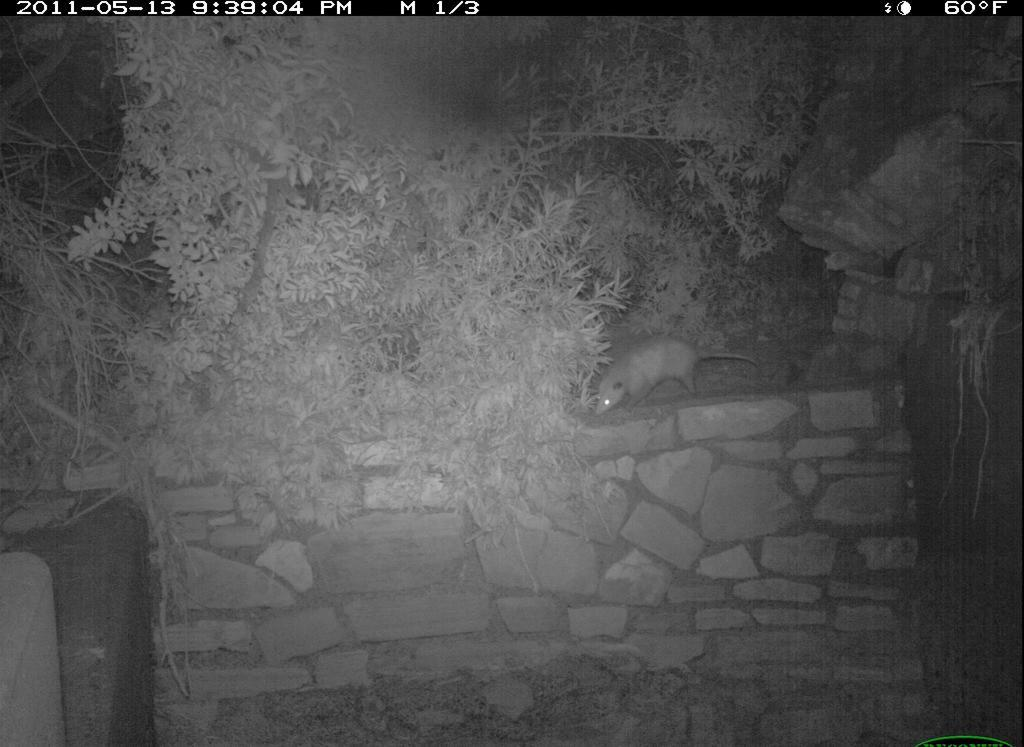opossum: (583, 322, 761, 429)
